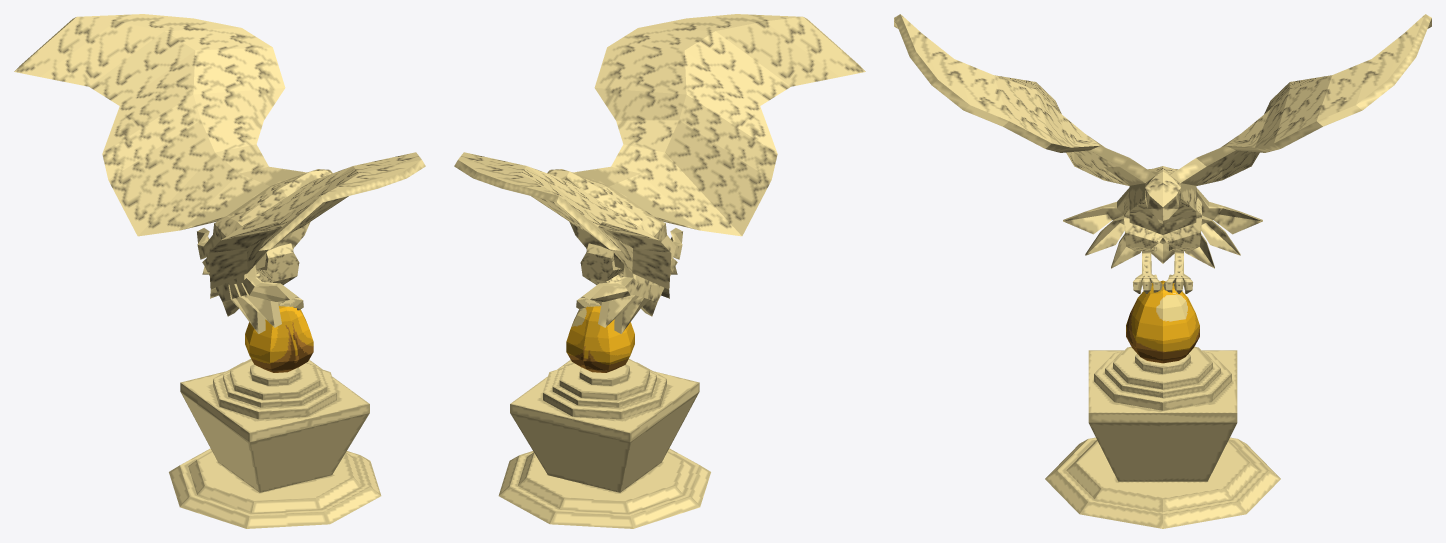
The model's file is estatua .fbx.
3 views of the same model, side by side, from view 1: azimuth 30°, elevation 25°; view 2: azimuth 150°, elevation 25°; view 3: azimuth 270°, elevation 25° (orthographic). The views are drawn at different scales.
Parts seen in each view (by area): view 1: Cube.002, Cube, Cube.003; view 2: Cube.002, Cube, Cube.003; view 3: Cube.002, Cube, Cube.003.
Part boxes in pixels (left/top/right/bottom): Cube.002: left=14, top=14, right=425, bottom=333; Cube: left=169, top=359, right=381, bottom=528; Cube.003: left=245, top=306, right=313, bottom=372; Cube.002: left=454, top=14, right=865, bottom=333; Cube: left=498, top=359, right=710, bottom=528; Cube.003: left=566, top=306, right=634, bottom=372; Cube.002: left=894, top=14, right=1431, bottom=293; Cube: left=1045, top=346, right=1280, bottom=528; Cube.003: left=1126, top=280, right=1199, bottom=363.
Size of the model in its own units: 474 by 767 by 879.
Materials: 3 (3 with a texture image).
